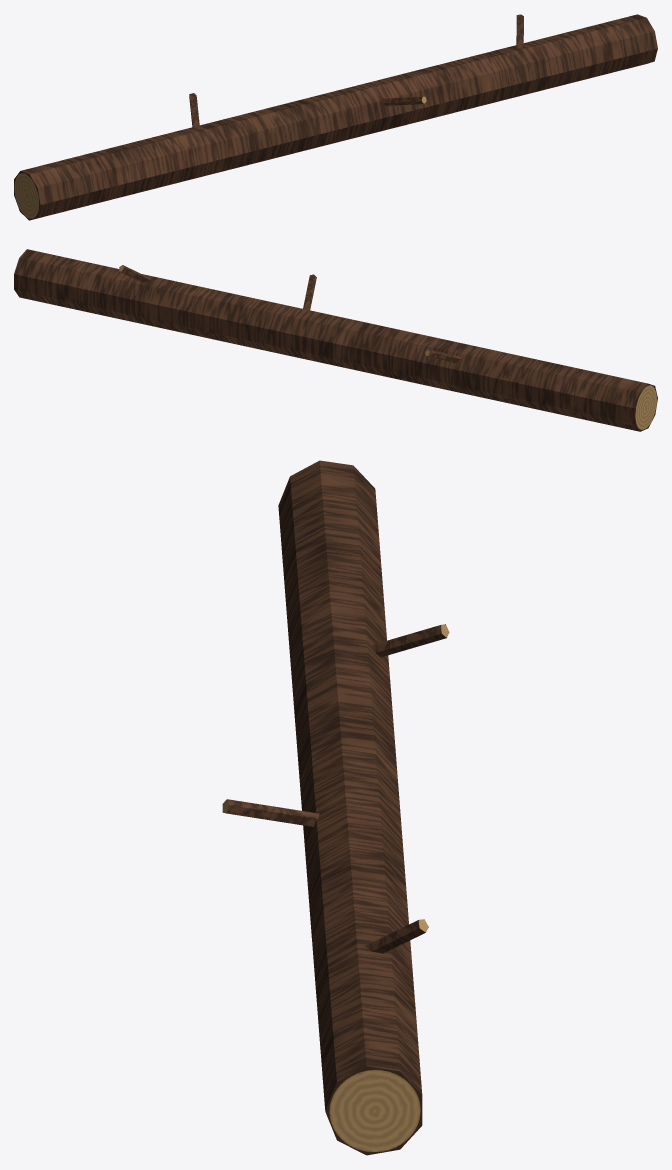
Rendered from SM_log_fallen.fbx.
3 renders of one model, top to bottom at view 1: azimuth 30°, elevation 25°; view 2: azimuth 150°, elevation 25°; view 3: azimuth 270°, elevation 25°, orthographic. The views are drawn at different scales.
Parts seen in each view (by area): view 1: SM_log_fallen; view 2: SM_log_fallen; view 3: SM_log_fallen.
Part boxes in pixels (x1,y1,x2,y2): SM_log_fallen: (14, 14, 657, 220); SM_log_fallen: (14, 249, 657, 431); SM_log_fallen: (222, 460, 449, 1155).
Size of the model in its own units: 9.02 by 0.9168 by 1.45.
